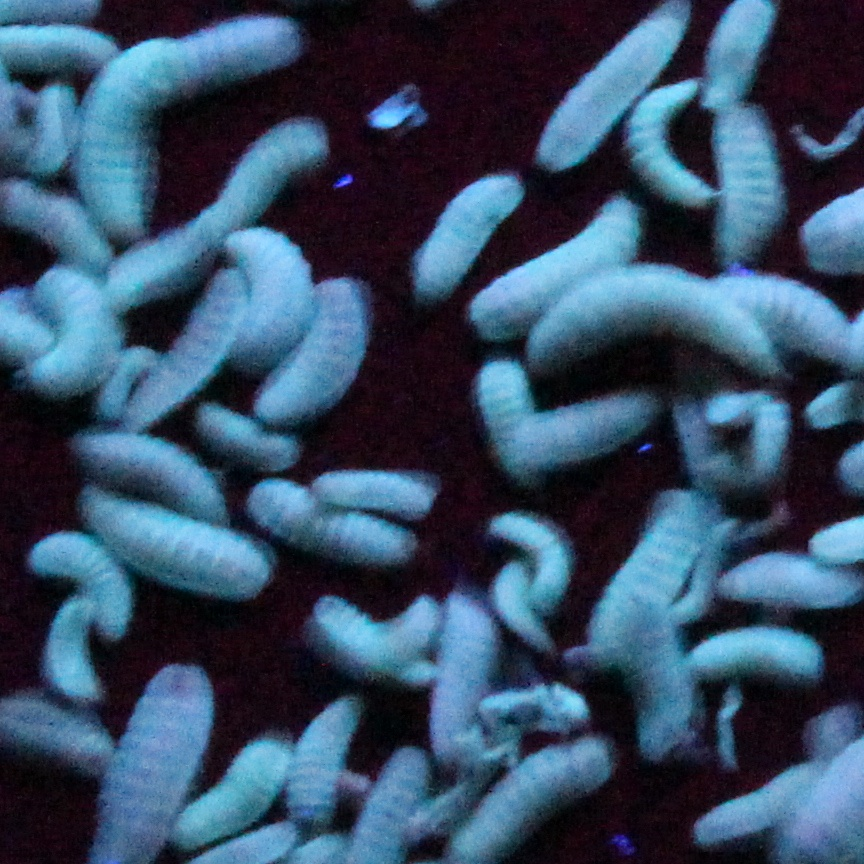larve: (572, 269, 755, 377), (103, 667, 207, 856), (550, 11, 662, 162), (489, 203, 623, 328), (592, 501, 701, 648), (131, 272, 238, 421), (112, 495, 265, 596), (210, 117, 335, 233), (93, 35, 165, 233), (474, 740, 600, 853), (417, 174, 523, 291), (268, 282, 367, 405), (77, 433, 212, 510), (317, 598, 435, 682), (189, 740, 286, 837), (258, 484, 407, 547), (31, 523, 130, 617), (235, 233, 300, 365), (533, 391, 639, 470), (174, 16, 300, 81), (442, 593, 491, 747), (633, 613, 688, 738), (701, 768, 817, 827), (638, 84, 706, 184), (42, 277, 109, 377), (757, 274, 850, 345), (363, 751, 421, 863), (296, 698, 347, 821), (47, 600, 110, 698), (725, 113, 769, 252), (310, 468, 435, 516), (124, 224, 205, 295), (694, 632, 813, 680), (203, 412, 295, 468), (507, 521, 570, 598), (737, 558, 850, 599), (481, 367, 526, 463), (672, 397, 715, 495), (23, 88, 74, 168), (743, 409, 797, 482), (495, 565, 542, 646), (107, 347, 144, 410)
